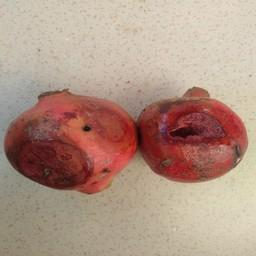Bad_pomegranate: (2, 75, 138, 200), (136, 91, 250, 189)
